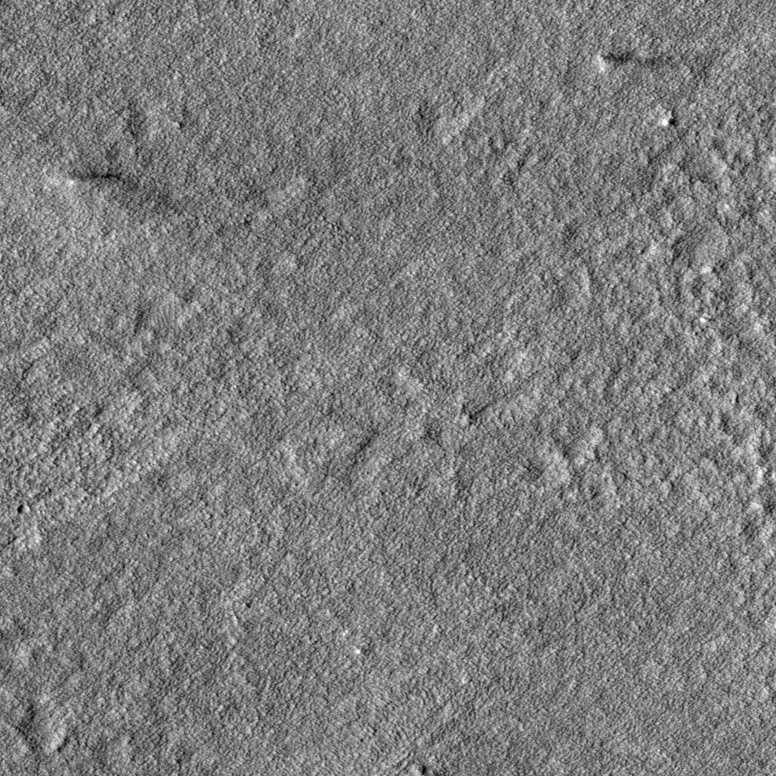dust_devil: (594, 49, 670, 76), (65, 170, 124, 189)
